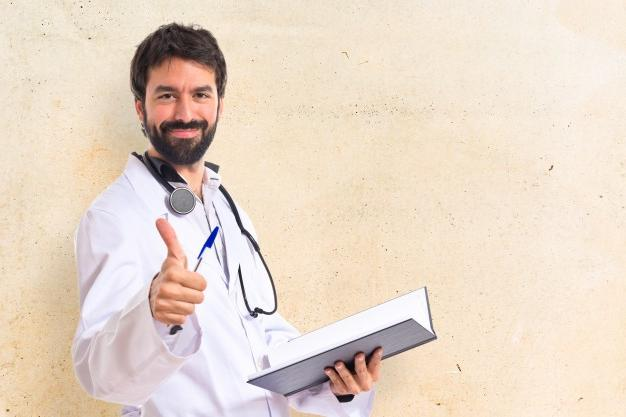thumbsup: (152, 218, 207, 325)
